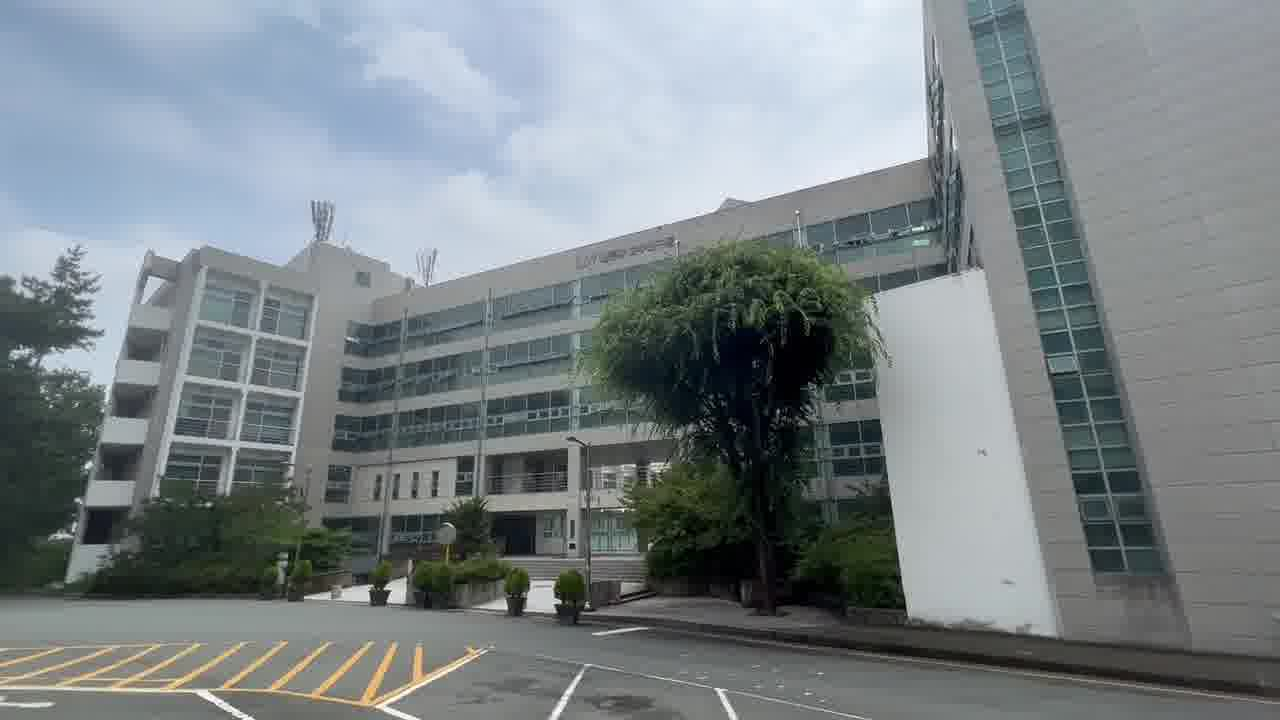low: (107, 203, 586, 480)
